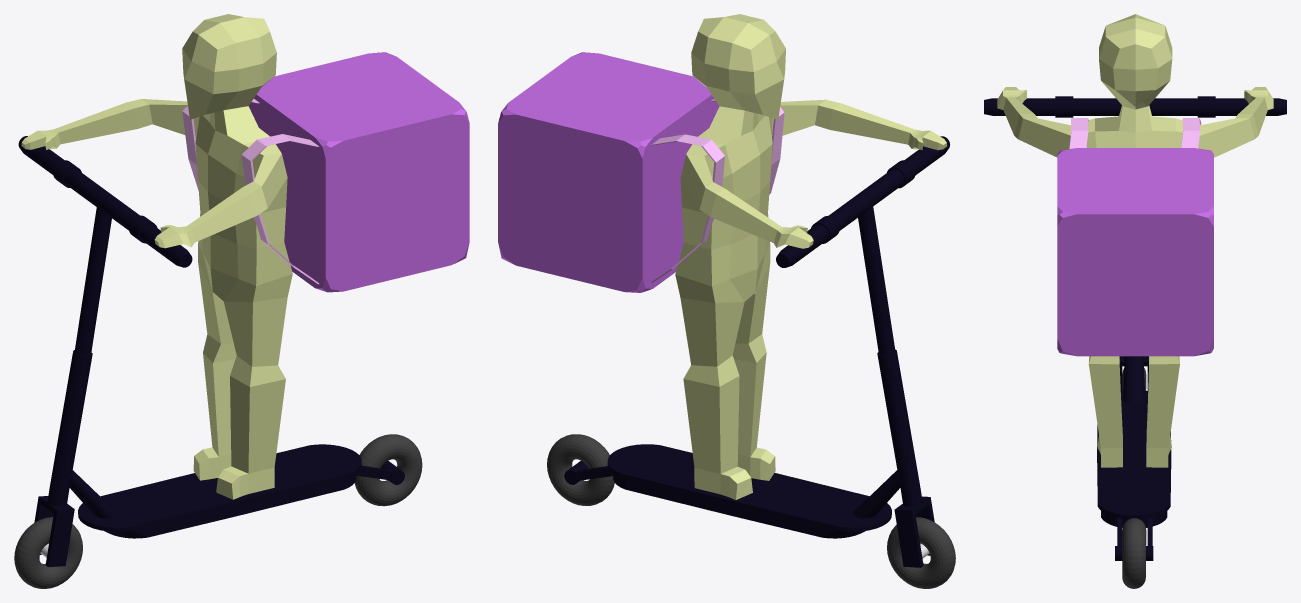
The model's file is Player 2.0.fbx.
3 renders of one model, left to right at view 1: azimuth 30°, elevation 25°; view 2: azimuth 150°, elevation 25°; view 3: azimuth 270°, elevation 25°, orthographic. The views are drawn at different scales.
Parts seen in each view (by area): view 1: Human, Cube.002, Cylinder.001, Cylinder.003, Cylinder.004, Torus.001, Torus, Cube, Plane.001, Cylinder.002, Plane; view 2: Human, Cube.002, Cylinder.001, Cylinder.003, Cylinder.004, Torus.001, Torus, Cube, Plane, Cylinder.002, Plane.001; view 3: Cube.002, Human, Cylinder.001, Cylinder.004, Torus.001, Cylinder.002, Plane, Plane.001.
Part boxes in pixels (x1,y1,x2,y2): Human: [21, 14, 292, 499]; Cube.002: [248, 52, 469, 292]; Cylinder.001: [78, 444, 361, 538]; Cylinder.003: [47, 206, 111, 506]; Cylinder.004: [18, 136, 192, 267]; Torus.001: [354, 434, 422, 506]; Torus: [14, 517, 82, 588]; Cube: [34, 496, 74, 567]; Plane.001: [241, 134, 319, 284]; Cylinder.002: [69, 470, 116, 518]; Plane: [182, 99, 259, 190]; Human: [675, 14, 947, 499]; Cube.002: [498, 52, 719, 292]; Cylinder.001: [607, 444, 891, 538]; Cylinder.003: [858, 205, 922, 506]; Cylinder.004: [776, 136, 949, 267]; Torus.001: [547, 434, 614, 505]; Torus: [887, 517, 955, 588]; Cube: [894, 496, 934, 567]; Plane: [651, 134, 724, 282]; Cylinder.002: [853, 470, 900, 518]; Plane.001: [711, 99, 784, 194]; Cube.002: [1057, 148, 1213, 356]; Human: [997, 14, 1273, 467]; Cylinder.001: [1097, 390, 1171, 527]; Cylinder.004: [984, 96, 1286, 117]; Torus.001: [1122, 518, 1146, 588]; Cylinder.002: [1123, 356, 1145, 403]; Plane: [1181, 118, 1201, 148]; Plane.001: [1069, 118, 1088, 148].
Bounding box in the file's own units: 1209 × 1460 × 815.
